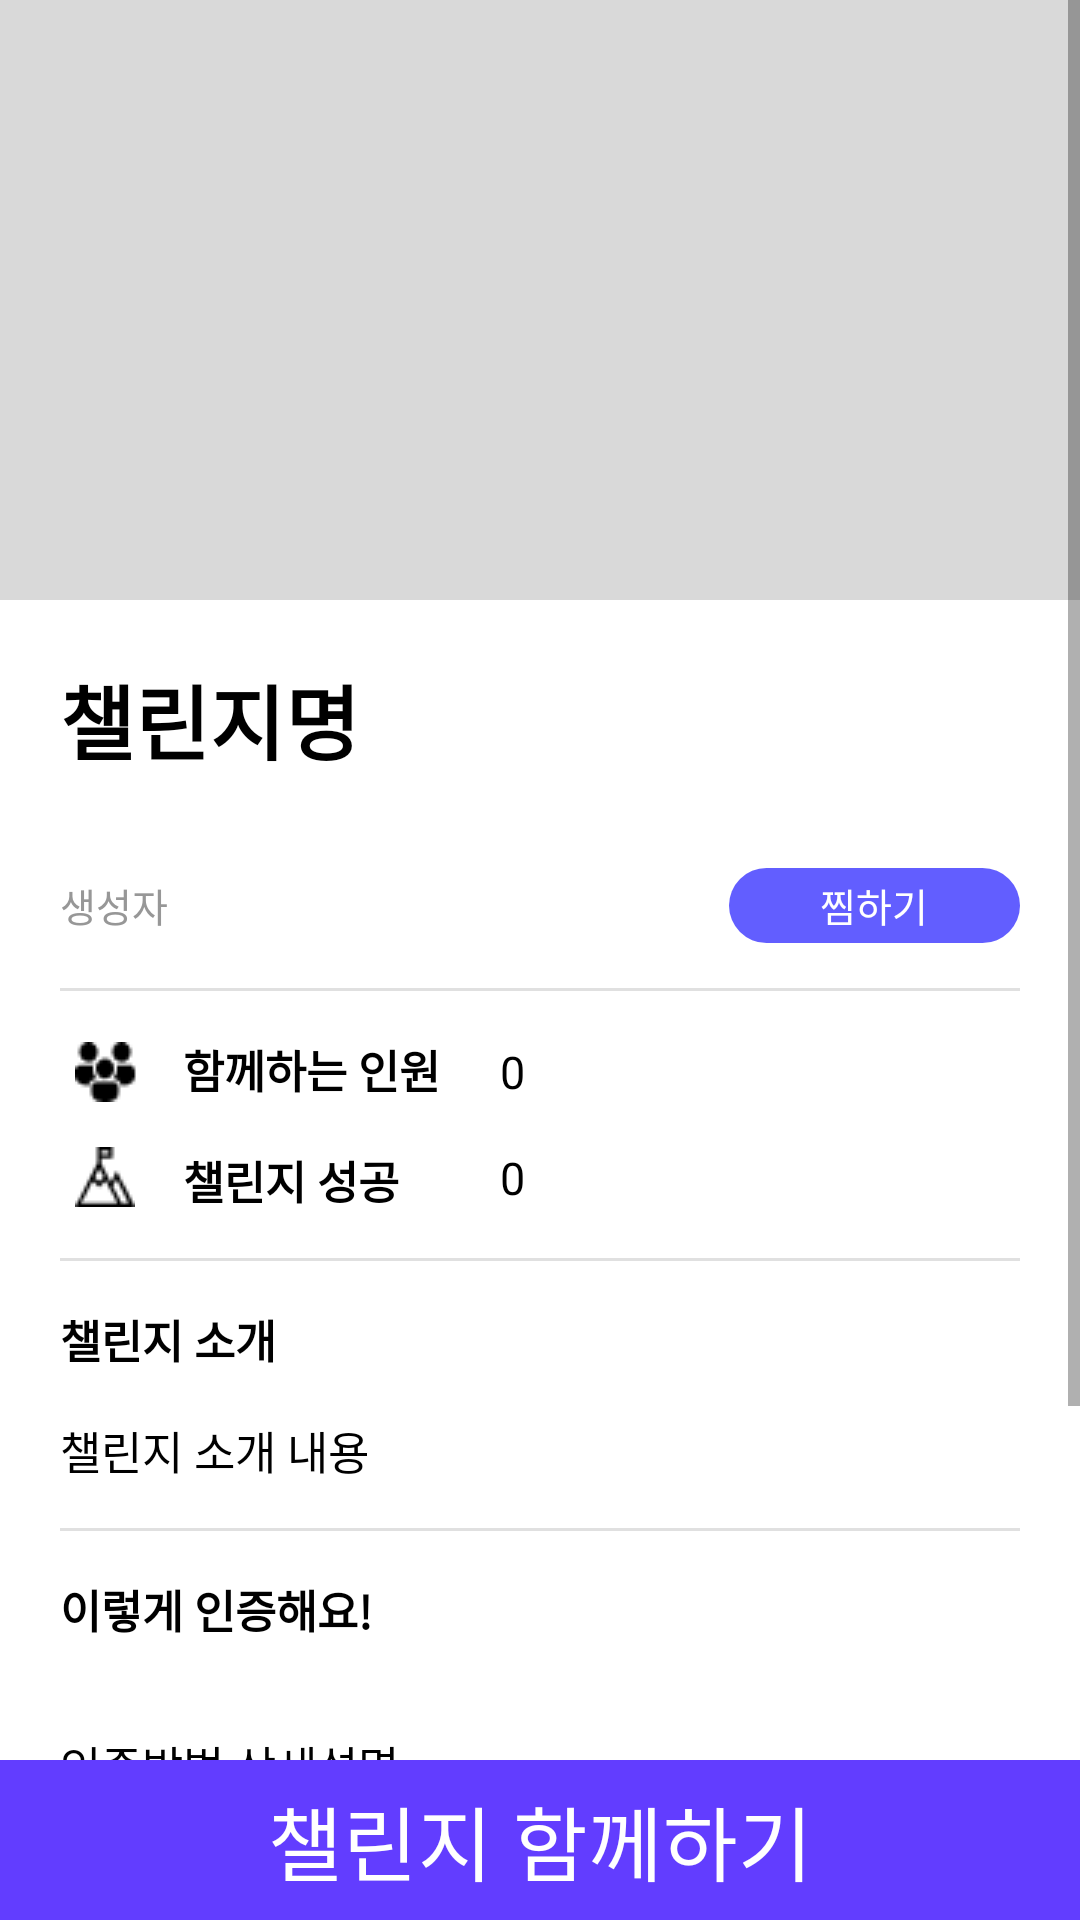

Icon bounding boxes for this 1080 × 1920 phone screenshot, format region(x1, y1, x2, y2):
goal: region(75, 1147, 135, 1207)
